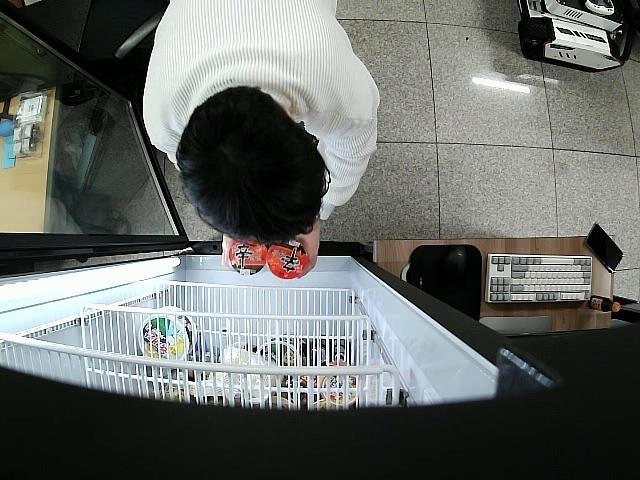02_shinRamen_S: (269, 240, 310, 277), (229, 241, 265, 272)
